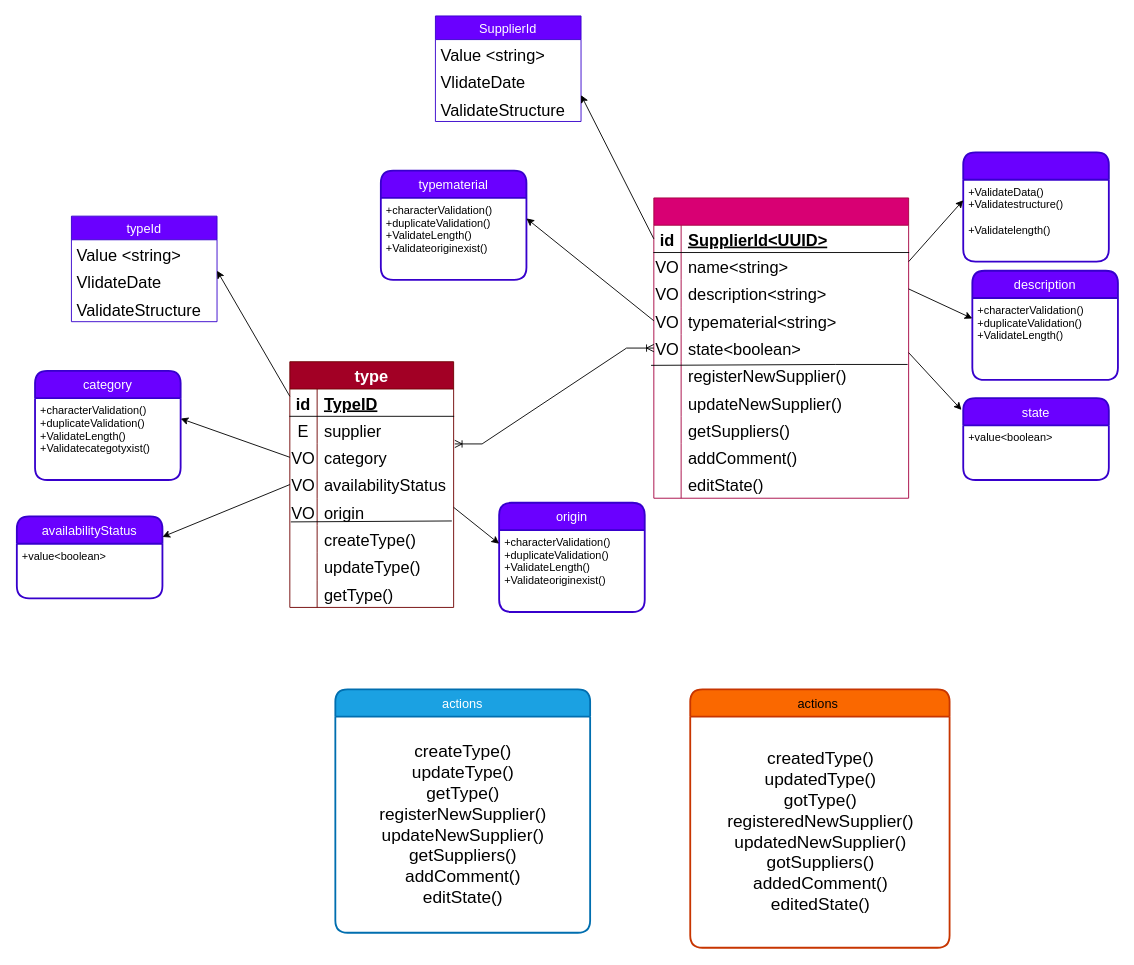
Some shapes in this 1134 by 965 pixel diagram are drawn without their labels. Here are the shapes that lost their labels. From the top down, the box of each, then its label:
(962, 151, 1109, 262): name[OV]
(653, 197, 909, 498): Supplier[E]
